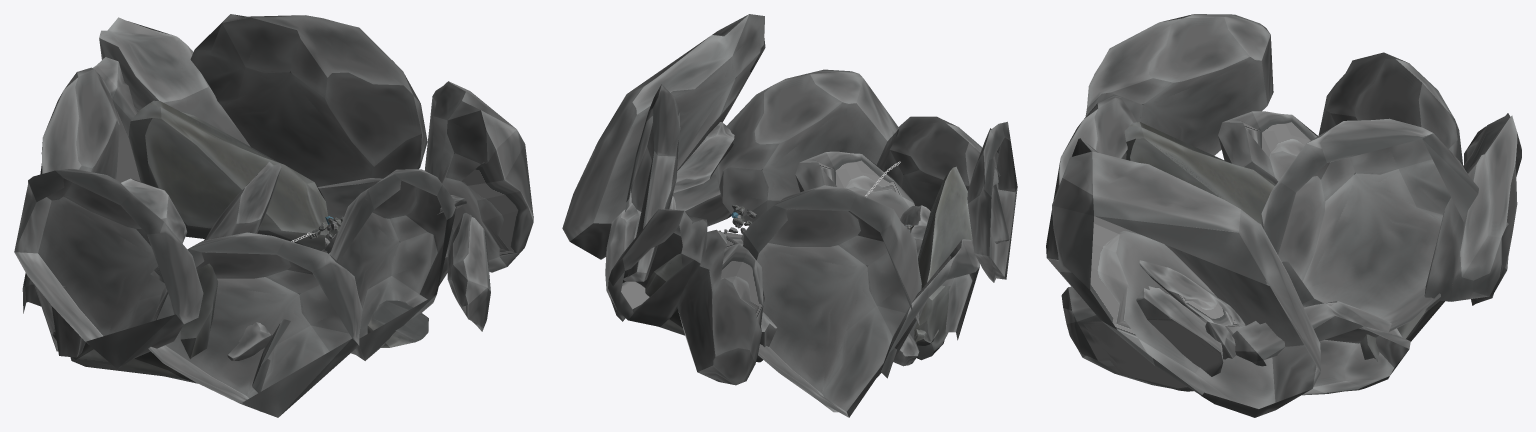
File: stoneCaveReworkedV2.fbx
3 views of the same model, side by side, from view 1: azimuth 30°, elevation 25°; view 2: azimuth 150°, elevation 25°; view 3: azimuth 270°, elevation 25° (orthographic). The views are drawn at different scales.
Visible parts, largest first — view 1: CaveBase.001; view 2: CaveBase.001, HoldingGiant; view 3: CaveBase.001.
Part boxes in pixels (x1,y1,x2,y2): CaveBase.001: (14, 14, 533, 417); CaveBase.001: (562, 14, 1017, 417); HoldingGiant: (722, 205, 756, 245); CaveBase.001: (1046, 14, 1521, 417).
Size of the model in its own units: 42037 by 25544 by 38510.
